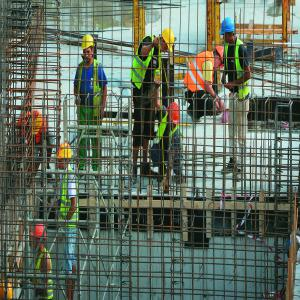blue: (221, 16, 236, 44)
red: (33, 225, 48, 251), (214, 45, 227, 70), (168, 104, 181, 129)
yellow: (56, 143, 72, 171), (161, 29, 175, 55), (82, 35, 95, 61), (31, 111, 42, 136)
